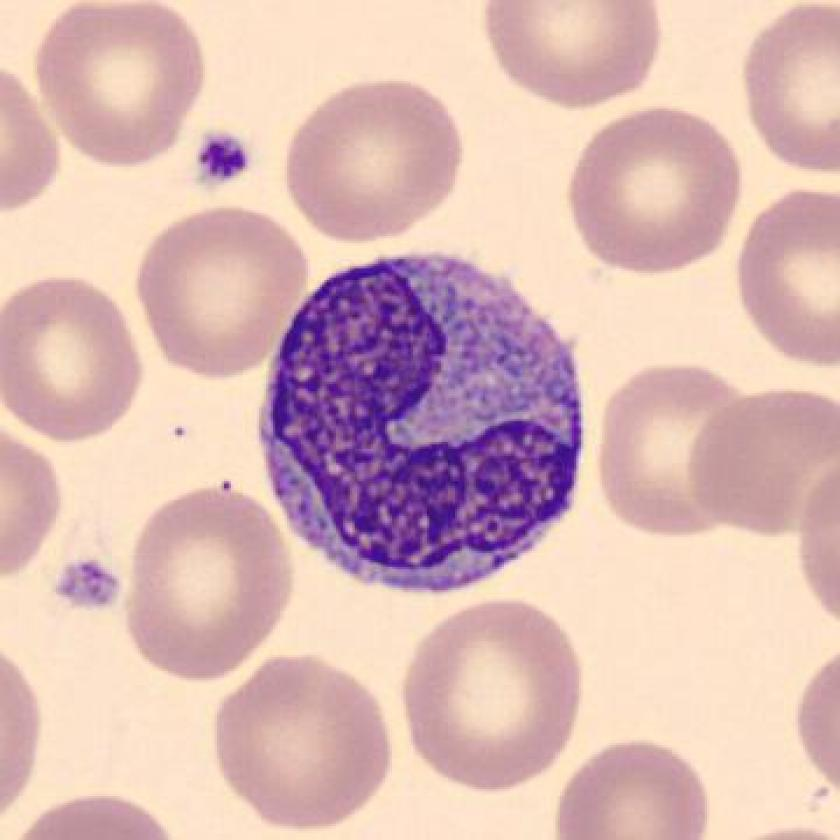monocyte: (251, 239, 601, 619)
